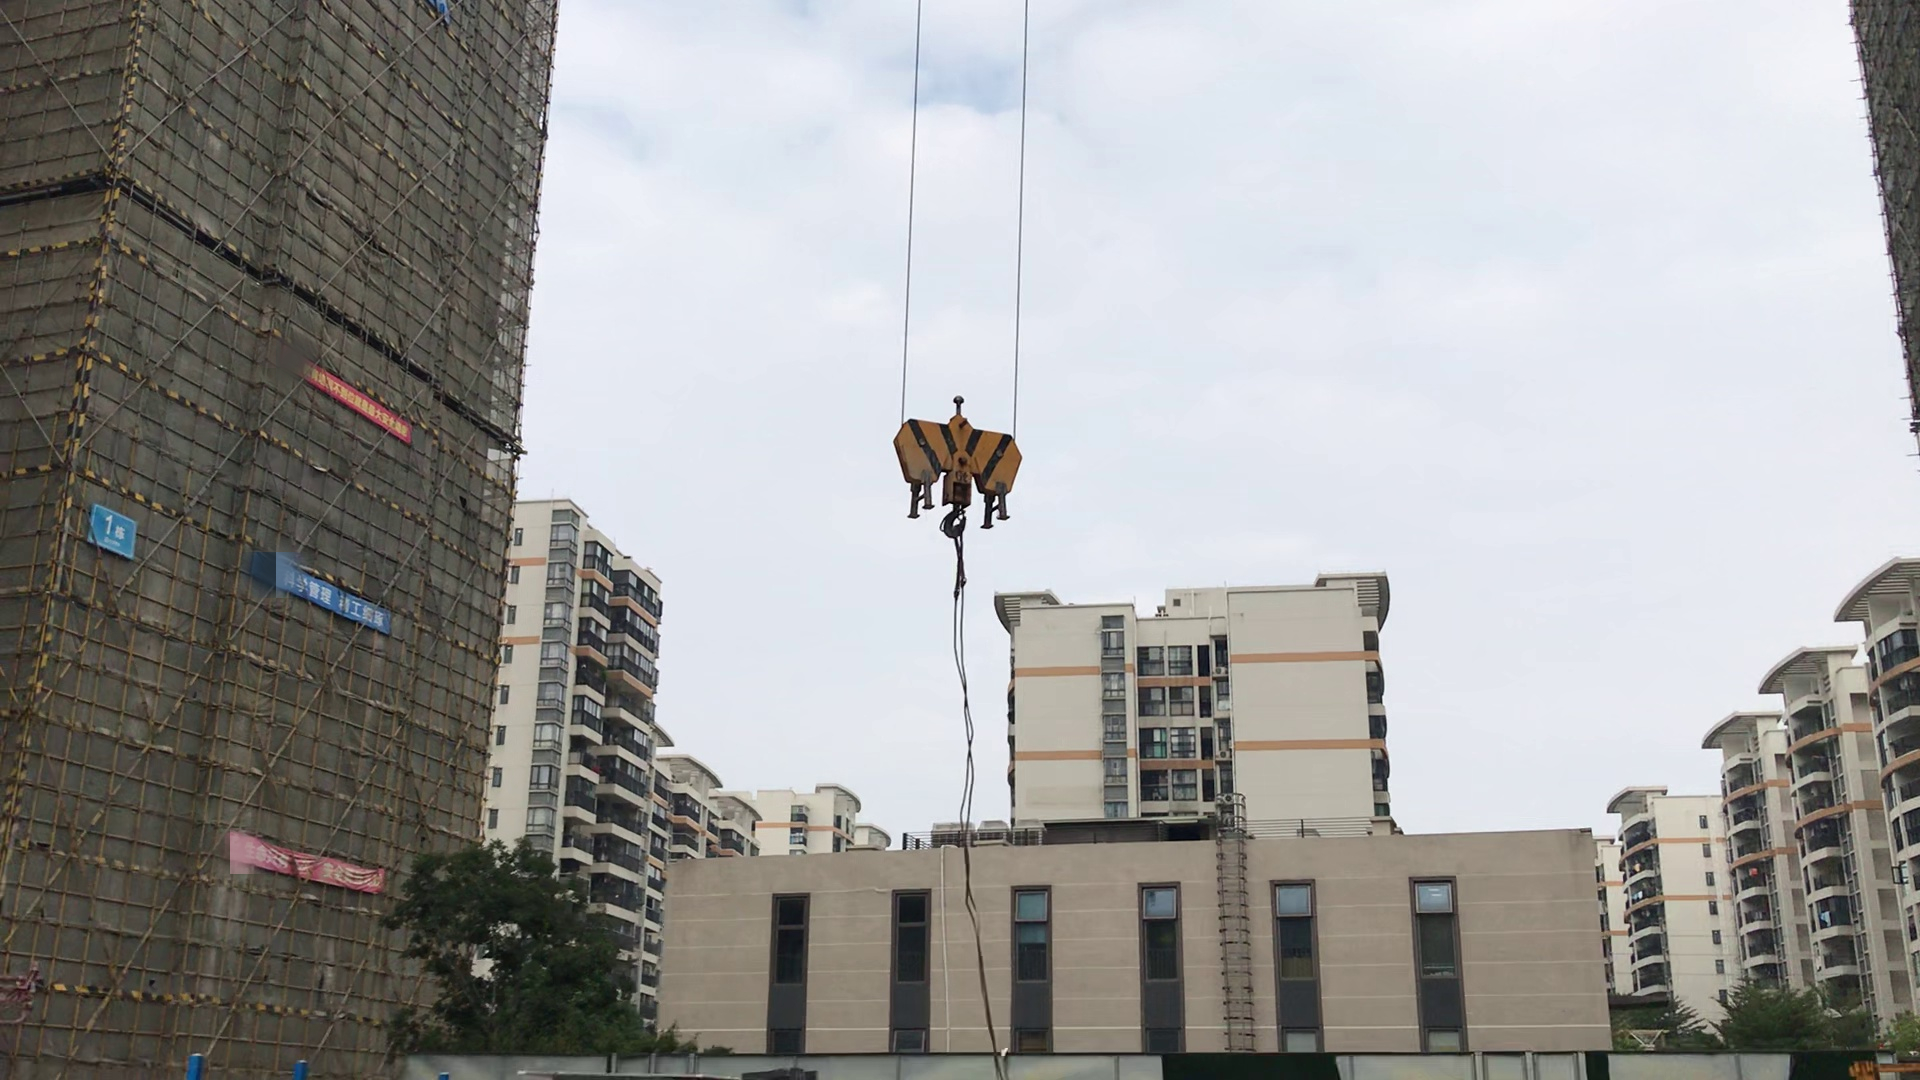hook: (880, 402, 1025, 510)
slogan: (233, 829, 381, 895), (284, 564, 394, 645), (309, 361, 414, 438)
